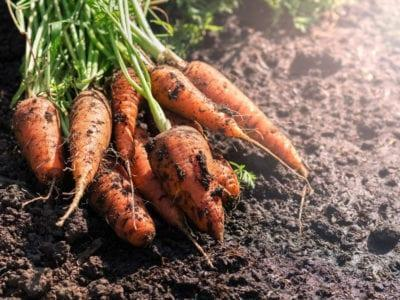carrot: (15, 4, 245, 242), (108, 60, 309, 218), (8, 95, 74, 183), (67, 84, 114, 207)
